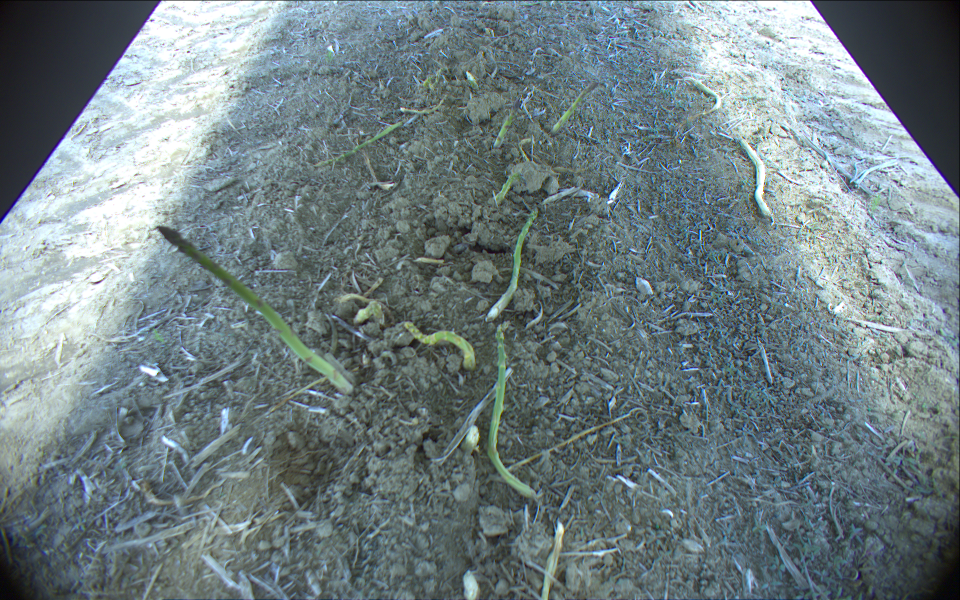aspa: (156, 224, 354, 397), (485, 324, 544, 504), (484, 204, 539, 323), (311, 122, 402, 168), (736, 134, 775, 225), (406, 323, 476, 371), (550, 80, 598, 137), (685, 76, 720, 118), (494, 98, 521, 148), (492, 168, 524, 203), (352, 300, 383, 326), (460, 424, 479, 456), (466, 68, 479, 89)
